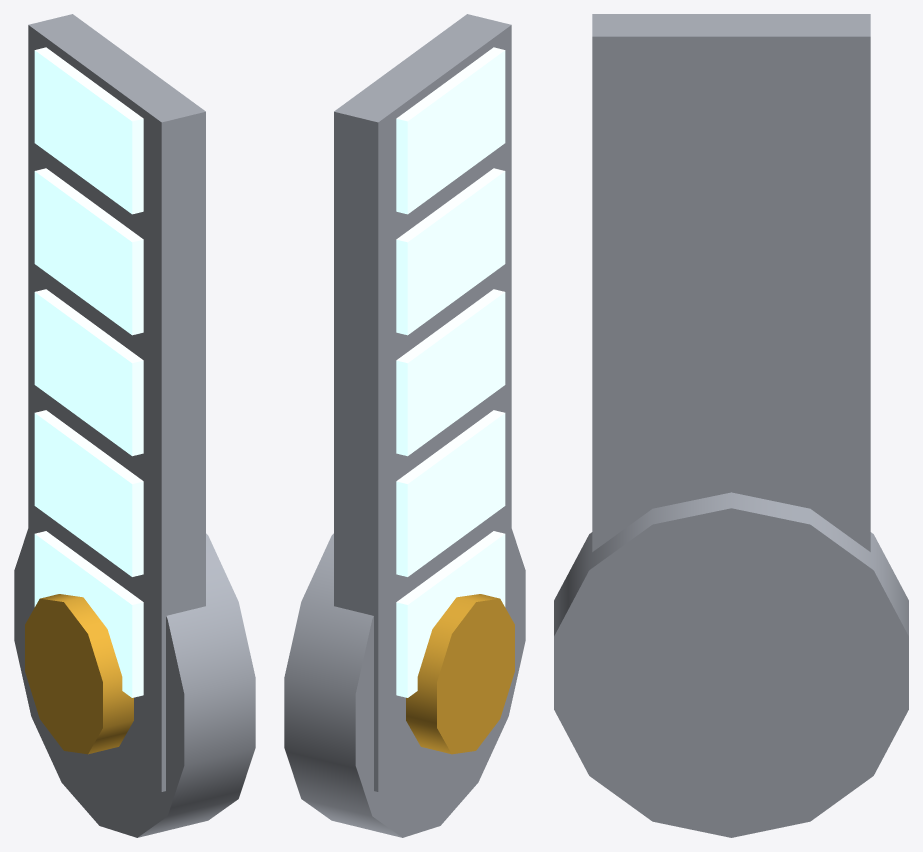
Rendered from SM_Avatar_DuelDisk.fbx.
3 views of the same model, side by side, from view 1: azimuth 30°, elevation 25°; view 2: azimuth 150°, elevation 25°; view 3: azimuth 270°, elevation 25° (orthographic). The views are drawn at different scales.
Visible parts, largest first — view 1: SM_Avatar_DuelDisk; view 2: SM_Avatar_DuelDisk; view 3: SM_Avatar_DuelDisk.
Boxes of the visible parts, box(x1,y1,x2,y2) form: SM_Avatar_DuelDisk: box(14, 14, 255, 837); SM_Avatar_DuelDisk: box(284, 14, 525, 837); SM_Avatar_DuelDisk: box(554, 14, 908, 837).
Bounding box in the file's own units: 0.06 × 0.405 × 0.1657.
